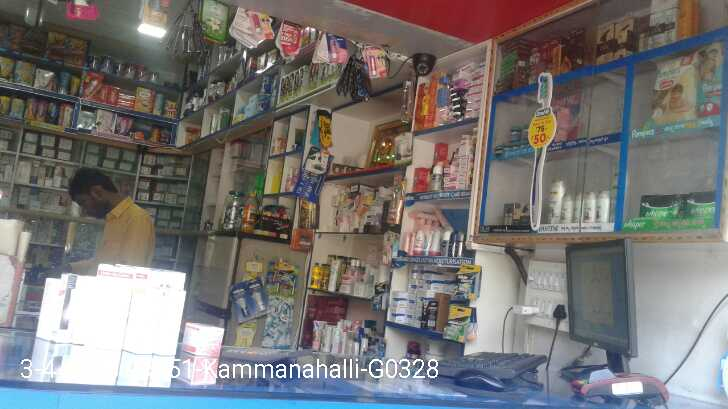vicks: (505, 123, 532, 146)
